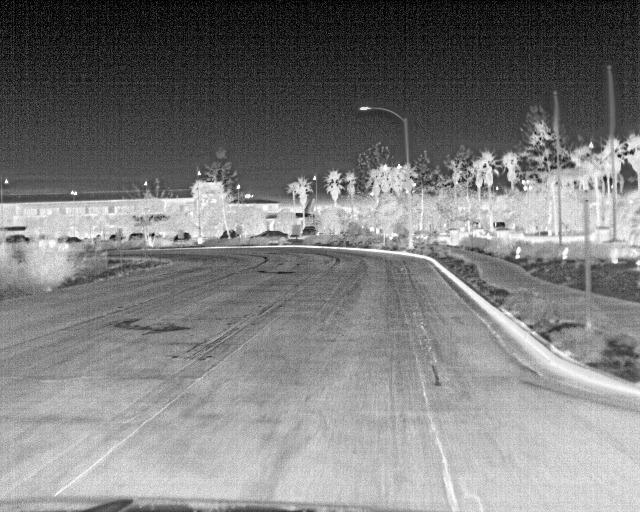car: (249, 229, 287, 244), (301, 225, 319, 238), (126, 232, 144, 245), (4, 234, 30, 243), (180, 232, 192, 246)
